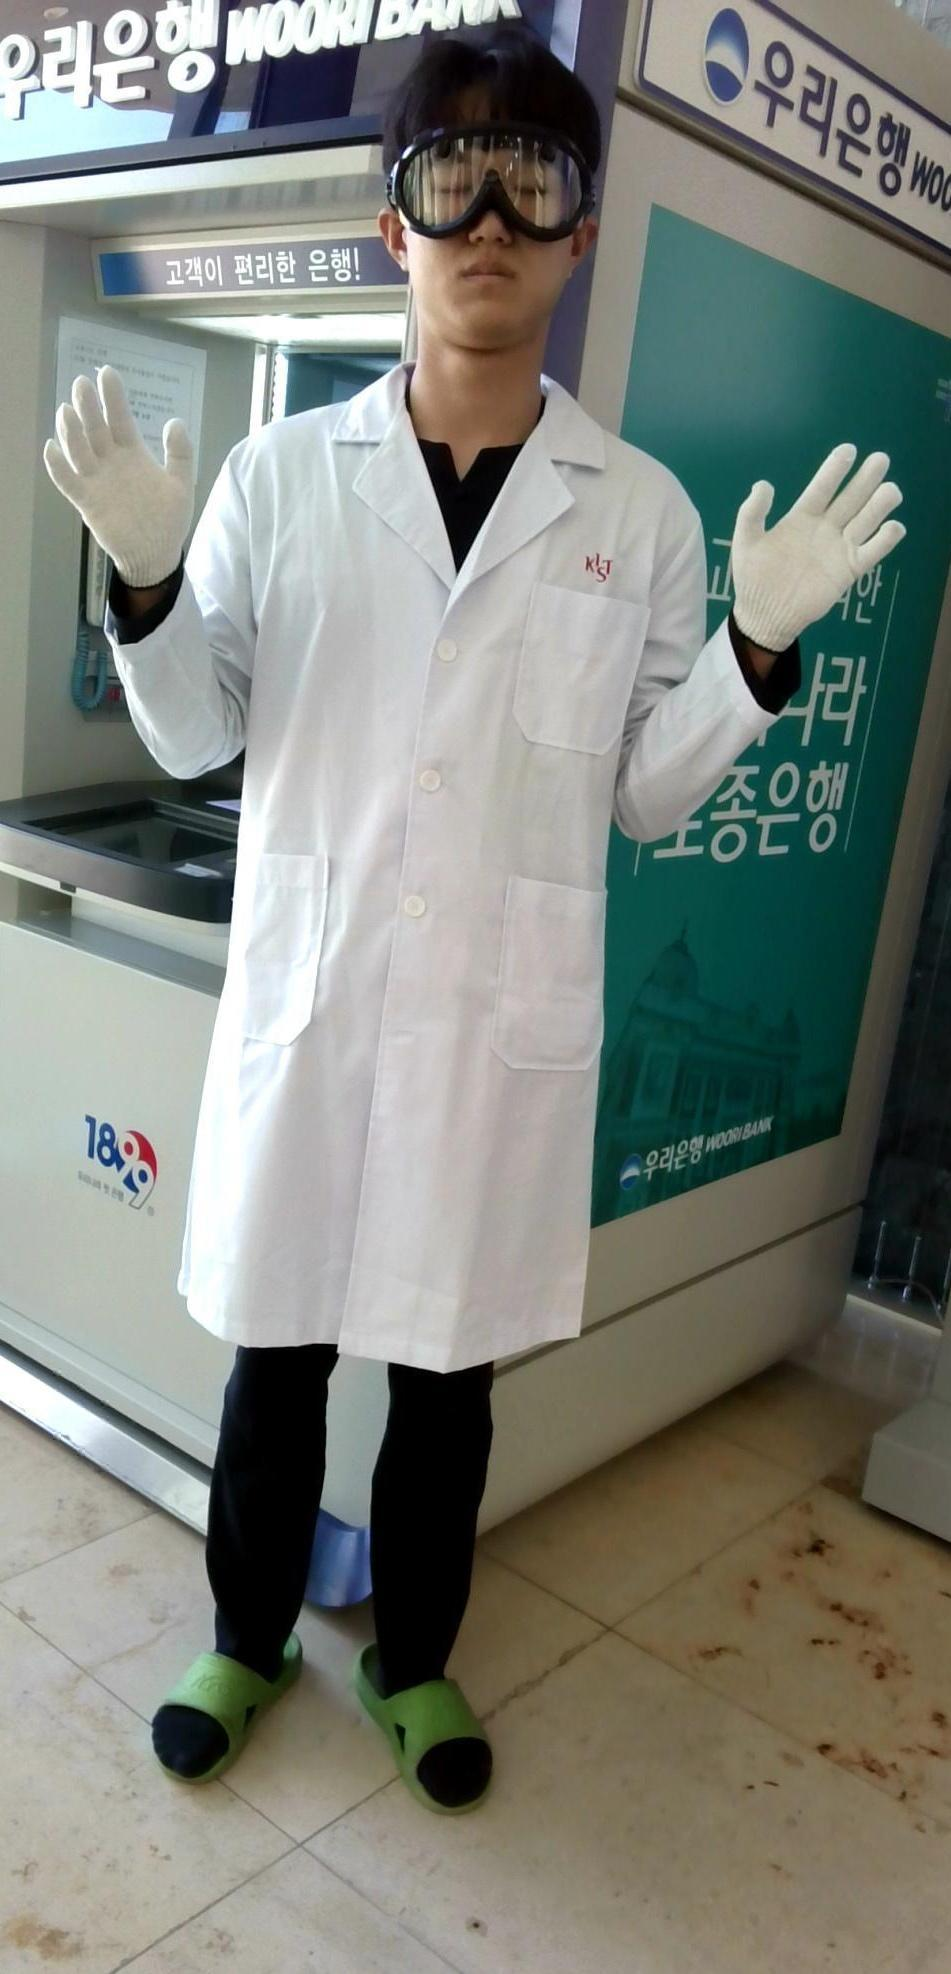lab_coat: (209, 404, 686, 1337)
